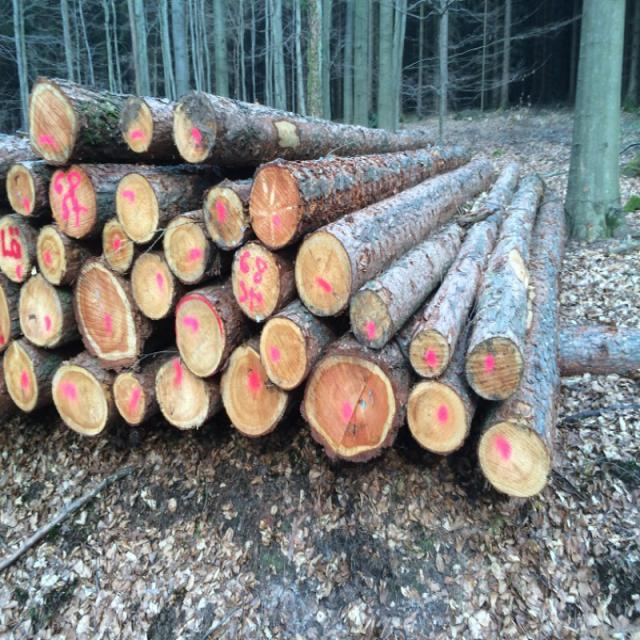wood-log: (299, 354, 397, 460), (71, 260, 141, 370), (221, 342, 294, 436), (476, 423, 550, 500), (404, 380, 470, 454), (296, 231, 354, 315), (26, 79, 78, 167), (176, 295, 229, 379), (252, 166, 305, 249), (52, 360, 110, 434), (153, 356, 206, 432), (230, 246, 278, 323), (48, 165, 98, 238), (260, 317, 308, 392), (467, 336, 525, 398), (167, 219, 220, 286), (115, 172, 162, 244), (171, 92, 217, 164), (20, 276, 66, 347), (129, 251, 176, 318), (203, 186, 249, 252), (0, 338, 38, 413), (349, 286, 393, 347), (0, 218, 33, 284), (113, 370, 151, 425), (120, 96, 156, 154), (410, 329, 452, 378), (102, 218, 136, 272), (36, 226, 68, 283), (7, 164, 37, 215), (0, 284, 10, 350)
